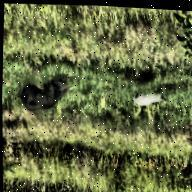boar: (3, 72, 74, 116)
